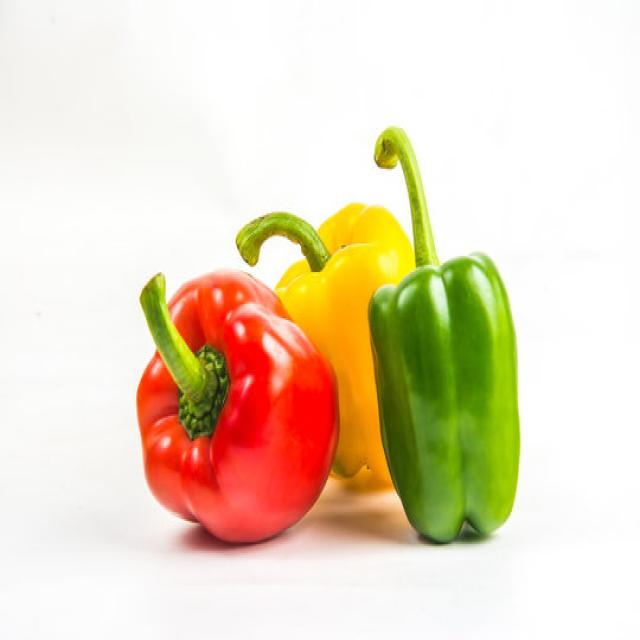Bell Pepper: (366, 124, 520, 544), (135, 267, 340, 544), (235, 201, 416, 491)
